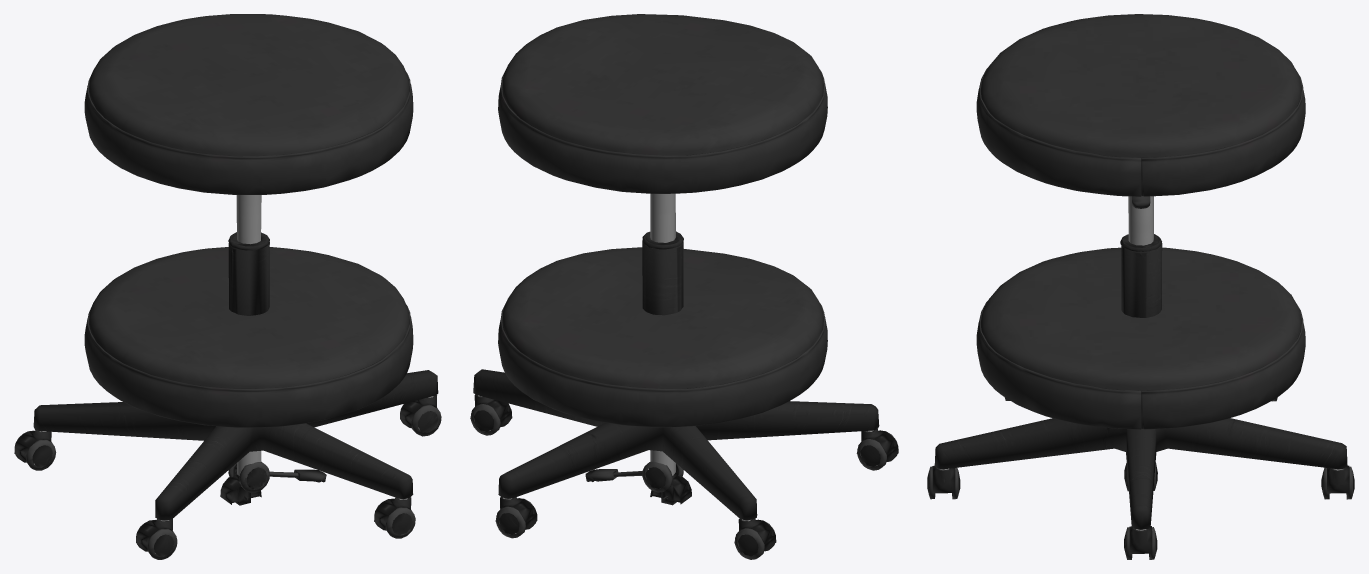
The model's file is stool_mobile_padded_vinyl_a01.glb.
The picture shows the model from 3 angles, left to right: view 1: azimuth 30°, elevation 25°; view 2: azimuth 150°, elevation 25°; view 3: azimuth 270°, elevation 25°; orthographic projection.
Visible parts, largest first — view 1: sm_seat_a01_mesh_00 (×2), sm_base_a01_mesh_00 (×2), sm_wheel5_a01_mesh_00, sm_wheel1_a01_mesh_00, sm_wheel4_a01_mesh_00, sm_wheel3_a01_mesh_00, sm_wheelbase1_a01_mesh_00, sm_wheelbase4_a01_mesh_00, sm_wheelbase5_a01_mesh_00; view 2: sm_seat_a01_mesh_00 (×2), sm_base_a01_mesh_00 (×2), sm_wheel1_a01_mesh_00, sm_wheel2_a01_mesh_00, sm_wheel5_a01_mesh_00, sm_wheel3_a01_mesh_00, sm_wheelbase1_a01_mesh_00, sm_wheelbase2_a01_mesh_00, sm_wheelbase5_a01_mesh_00; view 3: sm_seat_a01_mesh_00 (×2), sm_base_a01_mesh_00 (×2), sm_wheelbase3_a01_mesh_00, sm_wheelbase4_a01_mesh_00, sm_wheelbase2_a01_mesh_00.
Boxes of the visible parts, x1,y1,x2,y2 form: sm_seat_a01_mesh_00 (×2): (84, 14, 413, 475); sm_base_a01_mesh_00 (×2): (33, 232, 438, 521); sm_wheel5_a01_mesh_00: (136, 520, 177, 559); sm_wheel1_a01_mesh_00: (14, 431, 56, 470); sm_wheel4_a01_mesh_00: (374, 499, 415, 538); sm_wheel3_a01_mesh_00: (400, 403, 441, 436); sm_wheelbase1_a01_mesh_00: (14, 430, 52, 461); sm_wheelbase4_a01_mesh_00: (374, 497, 412, 529); sm_wheelbase5_a01_mesh_00: (136, 518, 174, 550); sm_seat_a01_mesh_00 (×2): (498, 14, 827, 475); sm_base_a01_mesh_00 (×2): (473, 231, 879, 521); sm_wheel1_a01_mesh_00: (734, 520, 775, 559); sm_wheel2_a01_mesh_00: (496, 498, 537, 538); sm_wheel5_a01_mesh_00: (857, 431, 897, 470); sm_wheel3_a01_mesh_00: (470, 404, 511, 435); sm_wheelbase1_a01_mesh_00: (734, 518, 776, 550); sm_wheelbase2_a01_mesh_00: (495, 497, 537, 528); sm_wheelbase5_a01_mesh_00: (856, 429, 898, 461); sm_seat_a01_mesh_00 (×2): (976, 14, 1305, 429); sm_base_a01_mesh_00 (×2): (934, 234, 1347, 530); sm_wheelbase3_a01_mesh_00: (1129, 526, 1152, 553); sm_wheelbase4_a01_mesh_00: (932, 465, 955, 493); sm_wheelbase2_a01_mesh_00: (1327, 465, 1349, 493).
Size of the model in its own units: 0.5216 by 0.5967 by 0.5417.
Materials: 22 (20 with a texture image).
